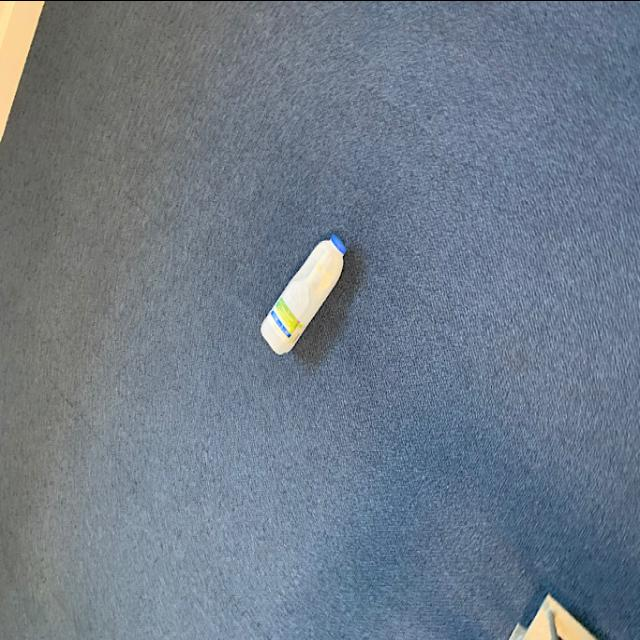litter: (260, 223, 360, 355)
